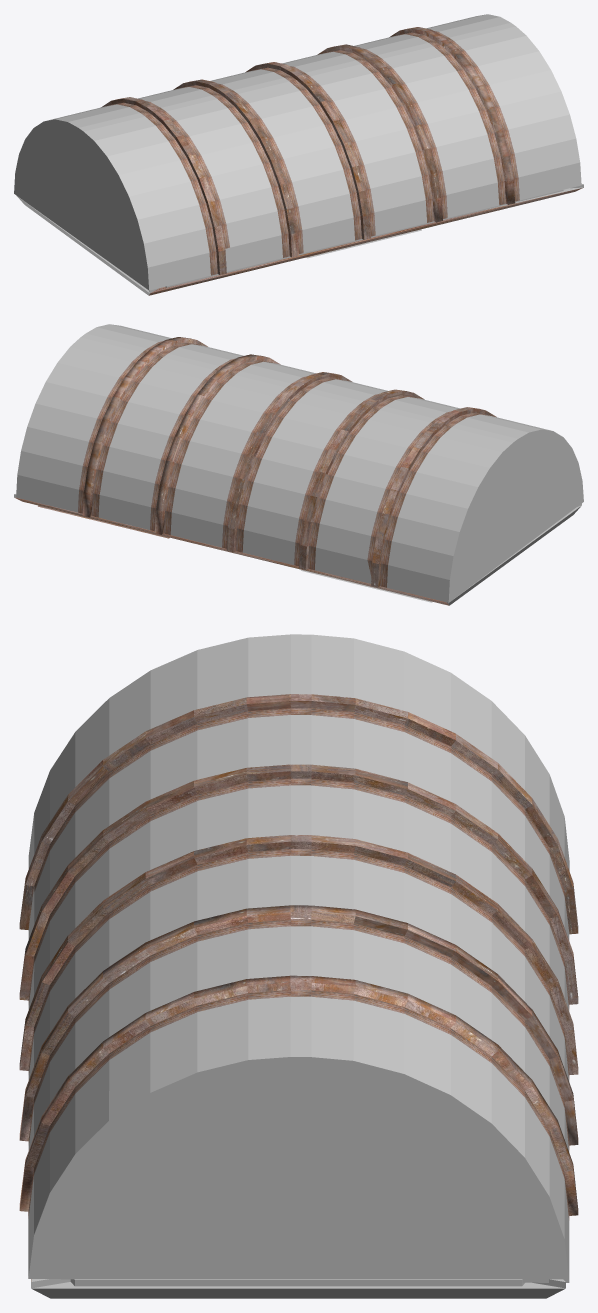
File: CofreTapa.obj
3 views of the same model, one above another, from view 1: azimuth 30°, elevation 25°; view 2: azimuth 150°, elevation 25°; view 3: azimuth 270°, elevation 25° (orthographic). The views are drawn at different scales.
Parts seen in each view (by area): view 1: CofreTapa:polySurface4; view 2: CofreTapa:polySurface4; view 3: CofreTapa:polySurface4.
Boxes of the visible parts, box(x1,y1,x2,y2) form: CofreTapa:polySurface4: box(14, 14, 583, 295); CofreTapa:polySurface4: box(14, 324, 583, 605); CofreTapa:polySurface4: box(19, 634, 578, 1298).
Size of the model in its own units: 0.6975 by 0.1914 by 0.3876.
